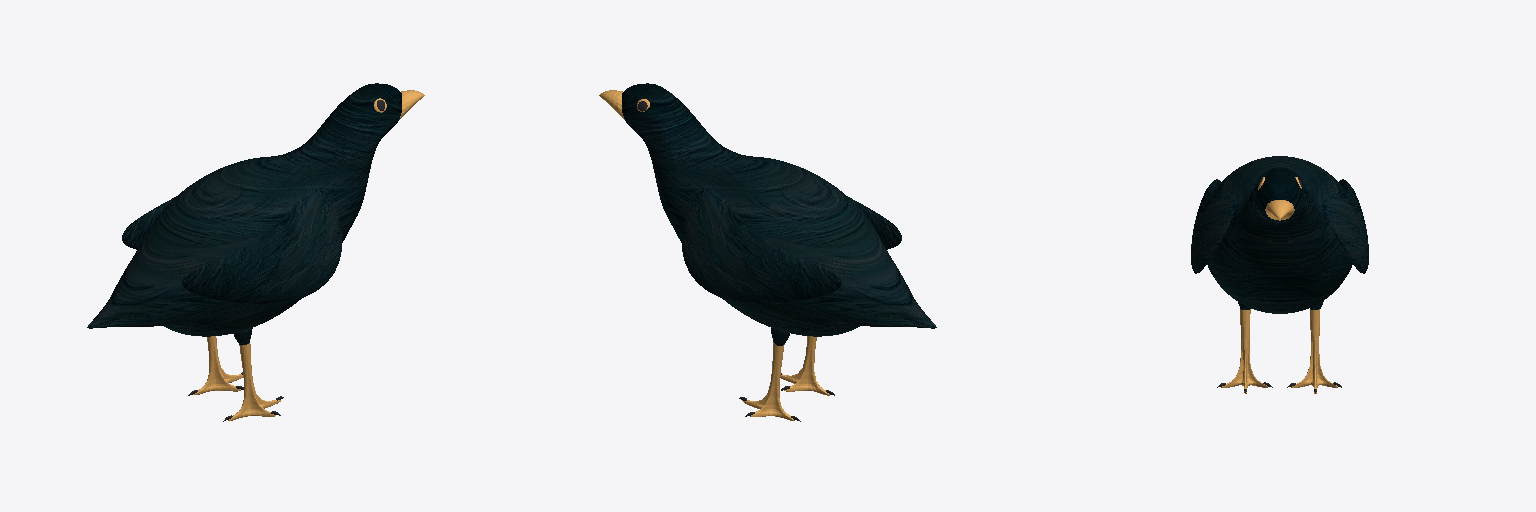
The picture shows the model from 3 angles: view 1: azimuth 30°, elevation 25°; view 2: azimuth 150°, elevation 25°; view 3: azimuth 270°, elevation 25°; orthographic projection.
Visible parts, largest first — view 1: pSphere14, pSphere17, pCone37, pCone36; view 2: pSphere14, pSphere17, pCone36, pCone37; view 3: pSphere14, pSphere17, pCone37, pCone36.
Part boxes in pixels (x1,y1,x2,y2): pSphere14: (87, 83, 401, 336); pSphere17: (122, 189, 341, 303); pCone37: (223, 328, 283, 421); pCone36: (188, 336, 243, 395); pSphere14: (622, 83, 936, 336); pSphere17: (682, 189, 901, 303); pCone36: (739, 328, 800, 421); pCone37: (780, 336, 834, 395); pSphere14: (1207, 156, 1352, 313); pSphere17: (1191, 179, 1368, 273); pCone37: (1217, 302, 1272, 393); pCone36: (1287, 301, 1341, 393).
Bounding box in the file's own units: 0.9617 × 0.7713 × 0.4392.
4 materials, 3 textured.